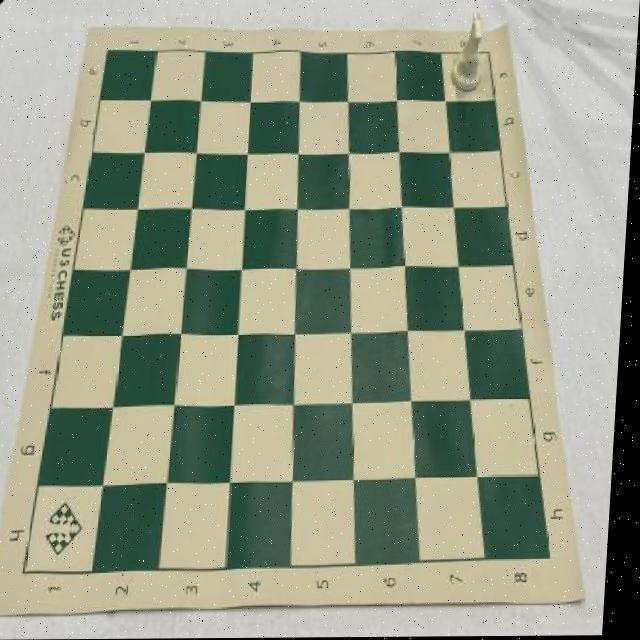white-king: (449, 12, 486, 94)
